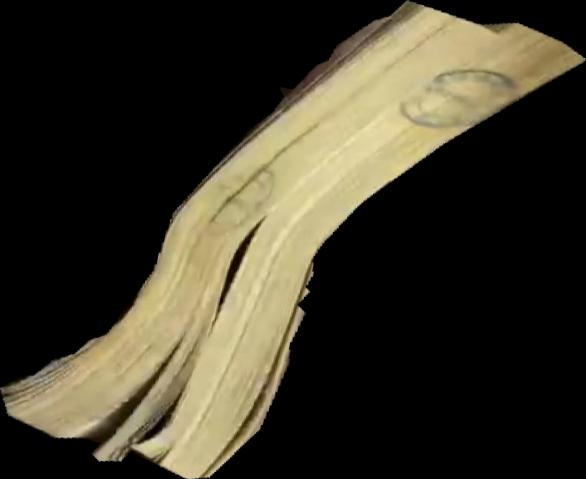backward: (1, 1, 586, 479)
